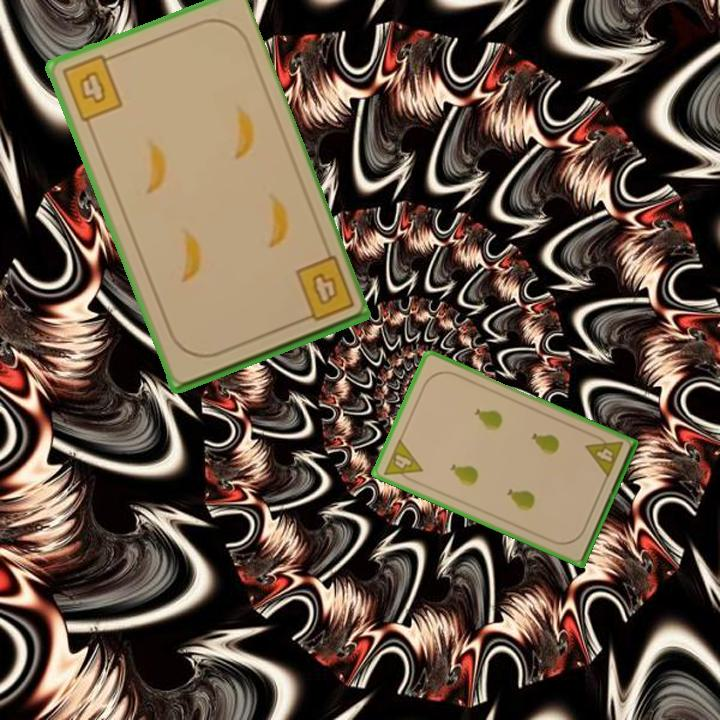4b: (58, 50, 126, 125), (291, 253, 357, 326)
4p: (380, 435, 425, 487), (582, 430, 626, 481)
